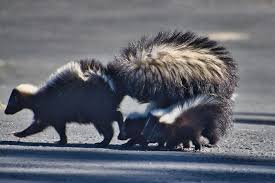skunk: (5, 33, 236, 149), (151, 96, 231, 149)
